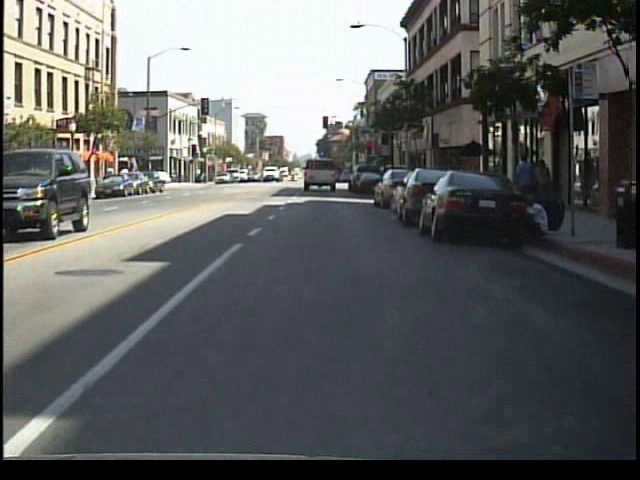person: (511, 149, 537, 221), (530, 157, 555, 219)
